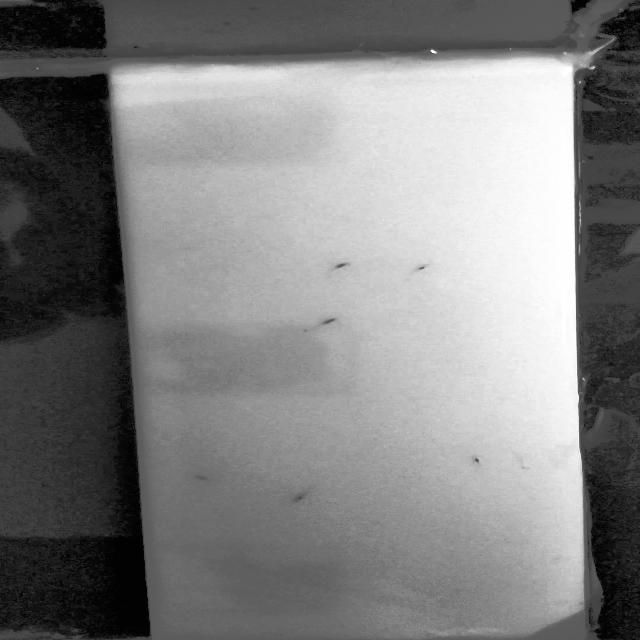shrimp: (406, 257, 445, 279), (307, 312, 352, 328), (463, 449, 490, 470), (324, 255, 356, 272), (191, 473, 229, 487), (284, 487, 314, 504)
